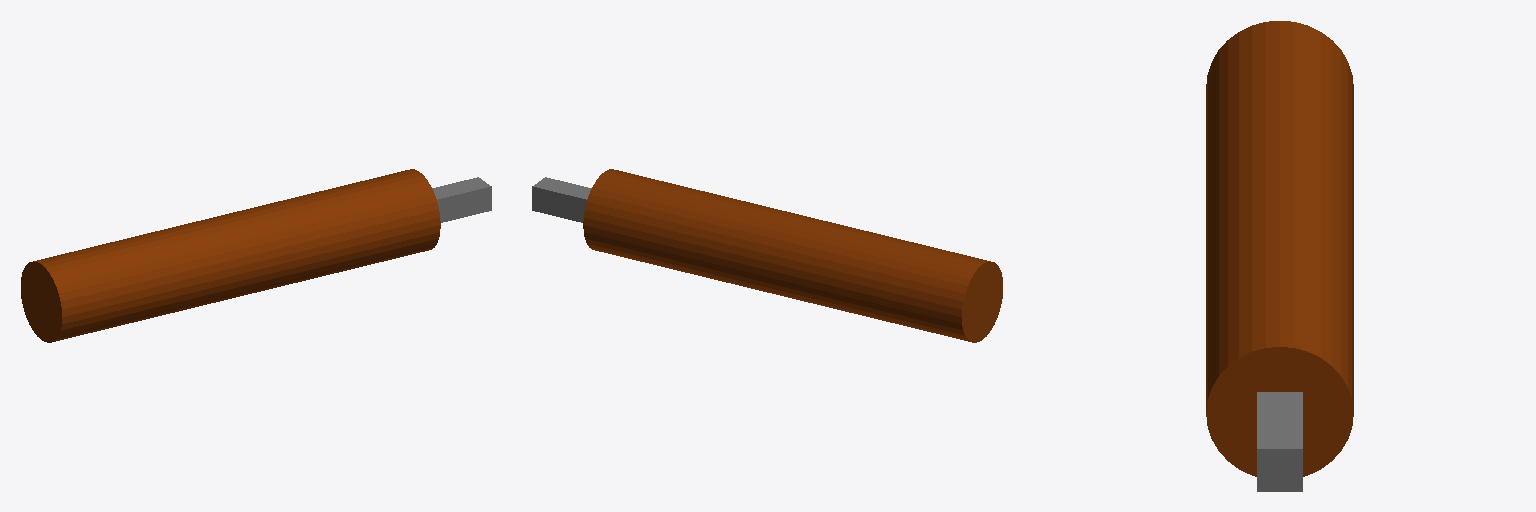
URDF robot description (handle_head):
<?xml version="1.0"?>
<robot name="handle_head">

  <link name="handle_head">
    <!-- Handle -->
    <visual>
              <origin xyz="0 0 0" rpy="0 -1.5707963267948966 0"/>
        <geometry>
          <cylinder length="0.11925803822387201" radius="0.011406053961775055"/>
        </geometry>
        
      <material name="brown">
        <color rgba="0.55 0.27 0.07 1.0"/>
      </material>
    </visual>
    <collision>
              <origin xyz="0 0 0" rpy="0 -1.5707963267948966 0"/>
        <geometry>
          <cylinder length="0.11925803822387201" radius="0.011406053961775055"/>
        </geometry>
        
    </collision>

    <!-- Head -->
    <visual>
              <origin xyz="0.06991189204722799 0 0" rpy="0 0 0"/>
        <geometry>
          <box size="0.020565745870583955 0.007017527039119521 0.007327425168952999"/>
        </geometry>
        
      <material name="gray">
        <color rgba="0.5 0.5 0.5 1.0"/>
      </material>
    </visual>
    <collision>
              <origin xyz="0.06991189204722799 0 0" rpy="0 0 0"/>
        <geometry>
          <box size="0.020565745870583955 0.007017527039119521 0.007327425168952999"/>
        </geometry>
        
    </collision>

    <inertial>
      <origin xyz="0.0008724455769324026 0 0" rpy="0 0 0"/>
      <mass value="0.02848208799820728"/>
      <inertia ixx="1.791274896331029e-06" iyy="4.5205706043283644e-05" izz="4.520557437052684e-05" ixy="0" ixz="0" iyz="0"/>
    </inertial>
  </link>

</robot>

--- Render facts (derived) ---
Views: 3 orthographic renders of the robot side by side, from view 1: azimuth 30°, elevation 25°; view 2: azimuth 150°, elevation 25°; view 3: azimuth 270°, elevation 25°.
Model handle_head with 1 links and 0 joints (none), rooted at handle_head, posed all joints at 0.
Links seen in each view (by area): view 1: handle_head; view 2: handle_head; view 3: handle_head.
Boxes of the visible links, x1,y1,x2,y2 form: handle_head: (21, 169, 491, 342); handle_head: (532, 169, 1002, 342); handle_head: (1206, 21, 1353, 491).
Size in the robot's own frame: 0.1398 by 0.0228 by 0.0228 metres.
Geometry: primitives only (box / cylinder / sphere), no mesh files.
